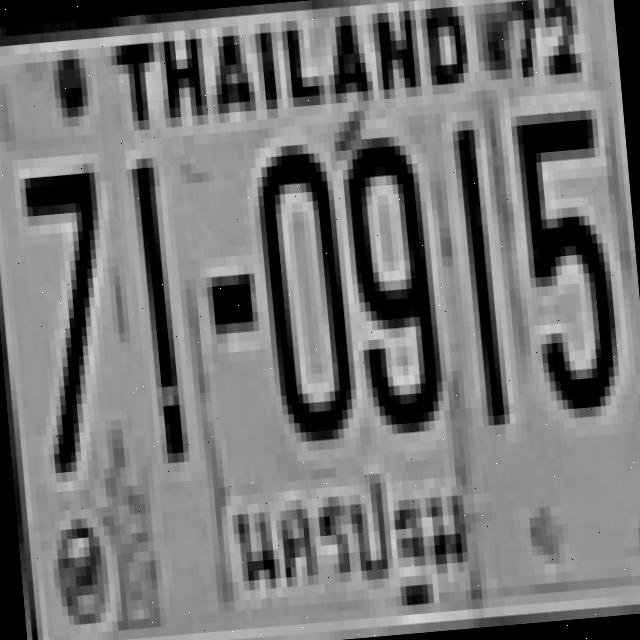0: (250, 133, 351, 434)
1: (127, 153, 181, 460), (450, 115, 504, 422)
5: (509, 100, 616, 411)
7: (18, 168, 114, 468)
9: (338, 126, 439, 427)
NakhonPathom: (218, 460, 482, 616)
